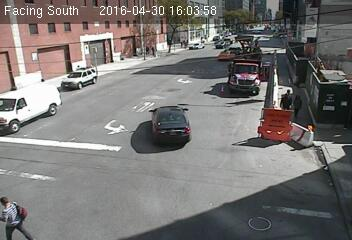neg: (24, 189, 59, 235), (127, 106, 160, 150), (230, 76, 257, 111), (307, 102, 334, 137), (289, 43, 314, 76), (254, 51, 275, 80), (117, 48, 129, 65), (260, 26, 272, 42), (164, 46, 173, 58), (110, 47, 119, 58), (194, 42, 201, 52), (202, 34, 209, 43)
pos: (270, 84, 296, 119), (286, 93, 310, 124), (140, 44, 150, 57), (151, 44, 160, 56), (182, 40, 190, 50)
